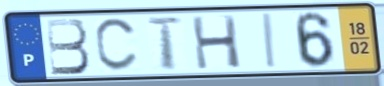6: (292, 10, 338, 71)
B: (43, 17, 93, 77)
C: (93, 16, 140, 74)
H: (189, 13, 244, 71)
I: (262, 11, 279, 71)
T: (145, 16, 186, 72)
